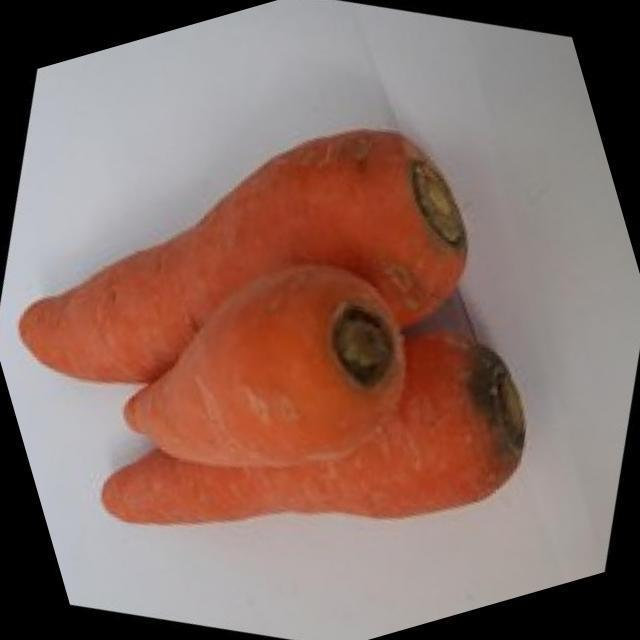carrot: (22, 130, 466, 382), (102, 330, 525, 523), (126, 266, 405, 467)
